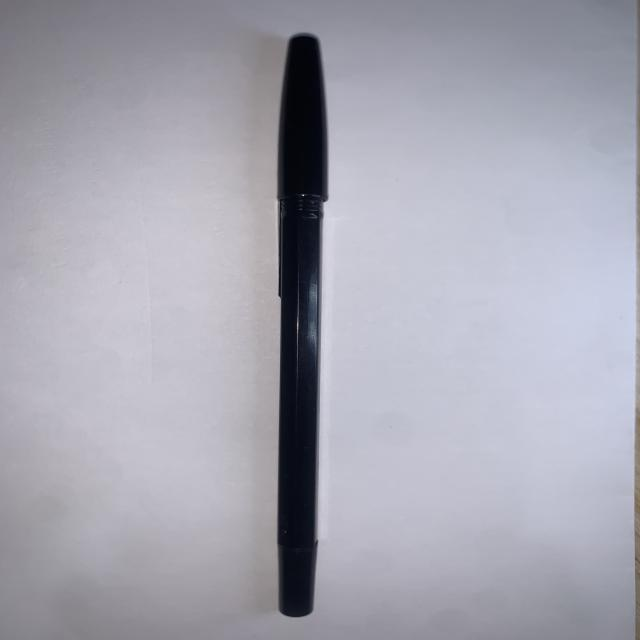Pulpen: (244, 23, 356, 632)
